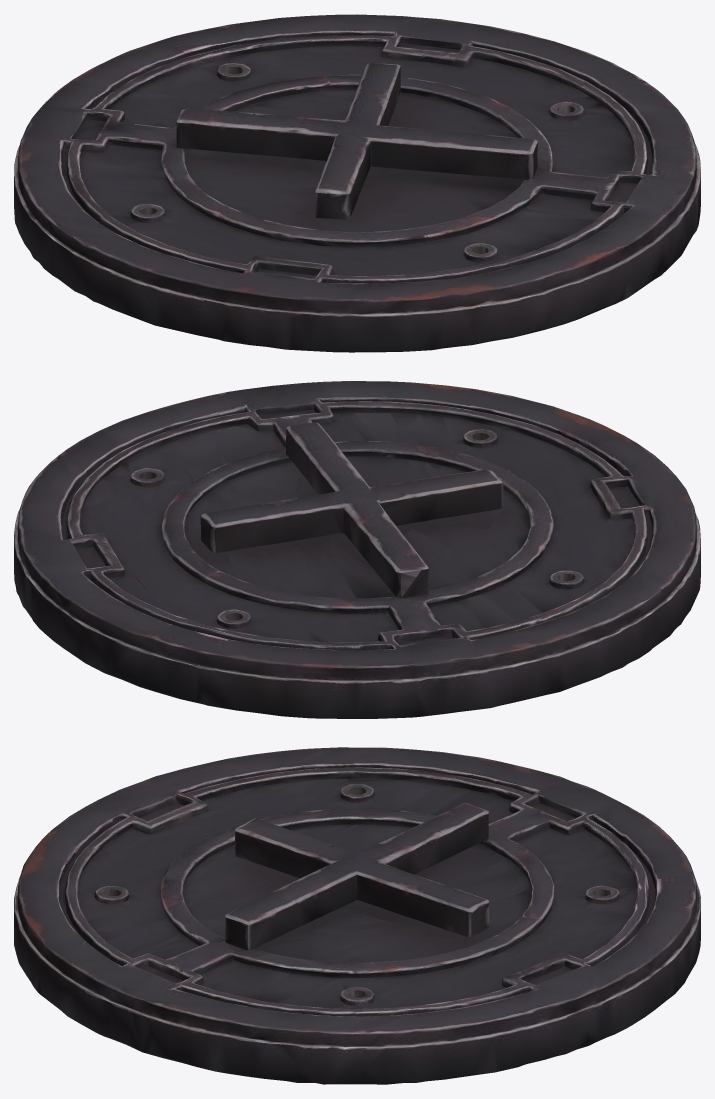
The model's file is decor_emblem_round_idle.glb.
The picture shows the model from 3 angles, top to bottom: view 1: azimuth 30°, elevation 25°; view 2: azimuth 150°, elevation 25°; view 3: azimuth 270°, elevation 25°; orthographic projection.
Visible parts, largest first — view 1: tripo_node_6502e6cc-5c9a-4629-9fa8-180f143bf99a; view 2: tripo_node_6502e6cc-5c9a-4629-9fa8-180f143bf99a; view 3: tripo_node_6502e6cc-5c9a-4629-9fa8-180f143bf99a.
Part boxes in pixels (x1,y1,x2,y2): tripo_node_6502e6cc-5c9a-4629-9fa8-180f143bf99a: (14, 14, 700, 352); tripo_node_6502e6cc-5c9a-4629-9fa8-180f143bf99a: (14, 381, 700, 718); tripo_node_6502e6cc-5c9a-4629-9fa8-180f143bf99a: (14, 747, 700, 1084).
Size of the model in its own units: 0.9998 by 0.1267 by 0.9991.
1 material, 1 textured.
